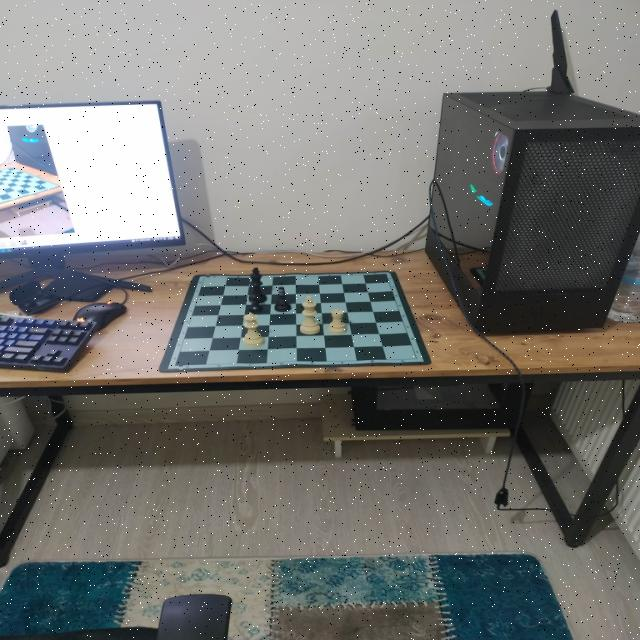corner: (167, 361, 183, 370), (408, 354, 422, 363), (199, 273, 210, 281), (382, 270, 393, 278)
